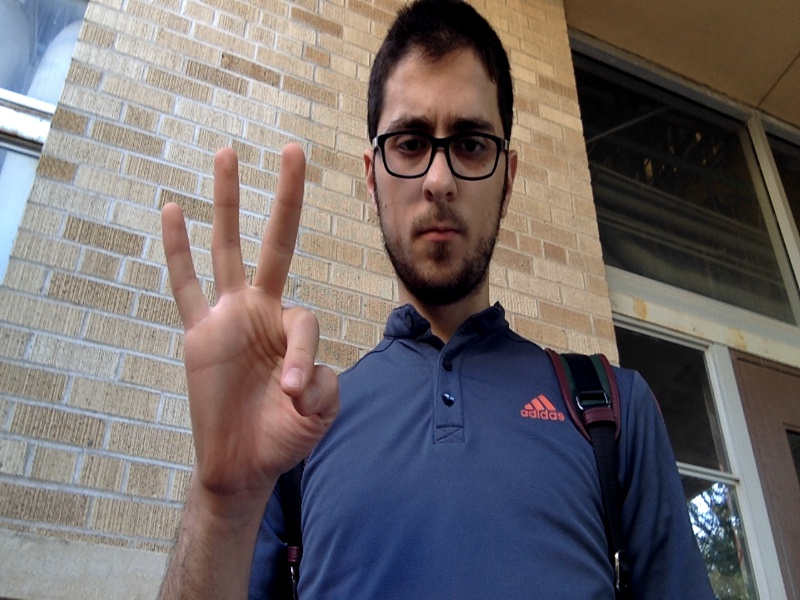3-hand: (161, 146, 344, 500)
